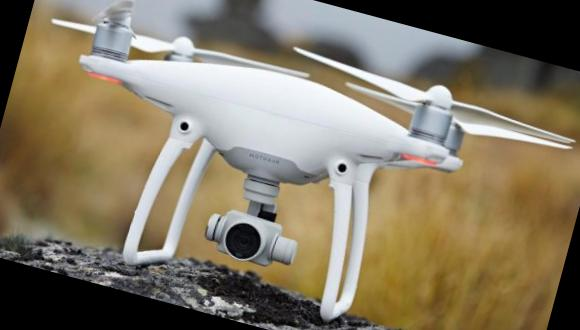drone: (9, 0, 572, 272)
